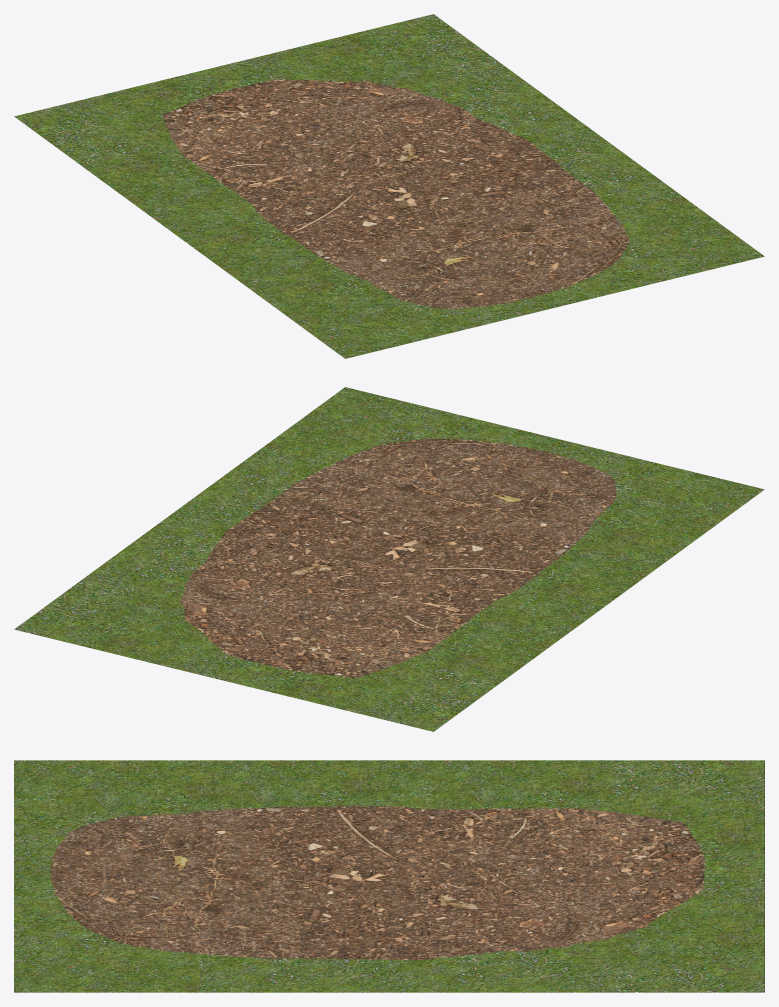
File: Ground.FBX
3 renders of one model, top to bottom at view 1: azimuth 30°, elevation 25°; view 2: azimuth 150°, elevation 25°; view 3: azimuth 270°, elevation 25°, orthographic. The views are drawn at different scales.
Parts seen in each view (by area): view 1: Plane001; view 2: Plane001; view 3: Plane001.
Boxes of the visible parts, bbox=[...] form: Plane001: bbox=[14, 14, 764, 358]; Plane001: bbox=[14, 387, 764, 731]; Plane001: bbox=[14, 760, 764, 992].
Bounding box in the file's own units: 132 × 180 × 0.
Materials: 1 (1 with a texture image).
